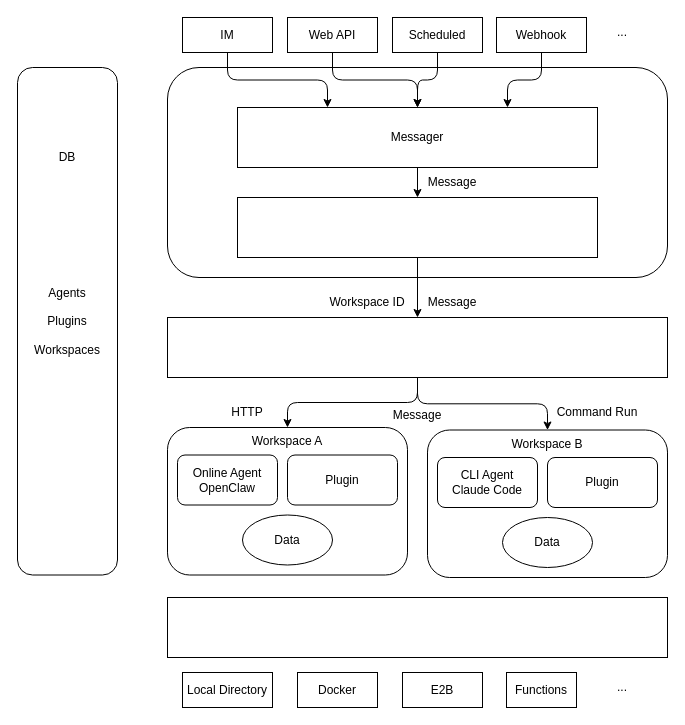
The diagram is 685 pixels wide and 725 high, and some of its shapes have lost their labels. Here are the shapes that lost their labels. From the top down, the centre of each, then its label:
At (417,227): "Scheduler".
At (417,347): "Workspace Control Interface".
At (417,627): "Infra".
